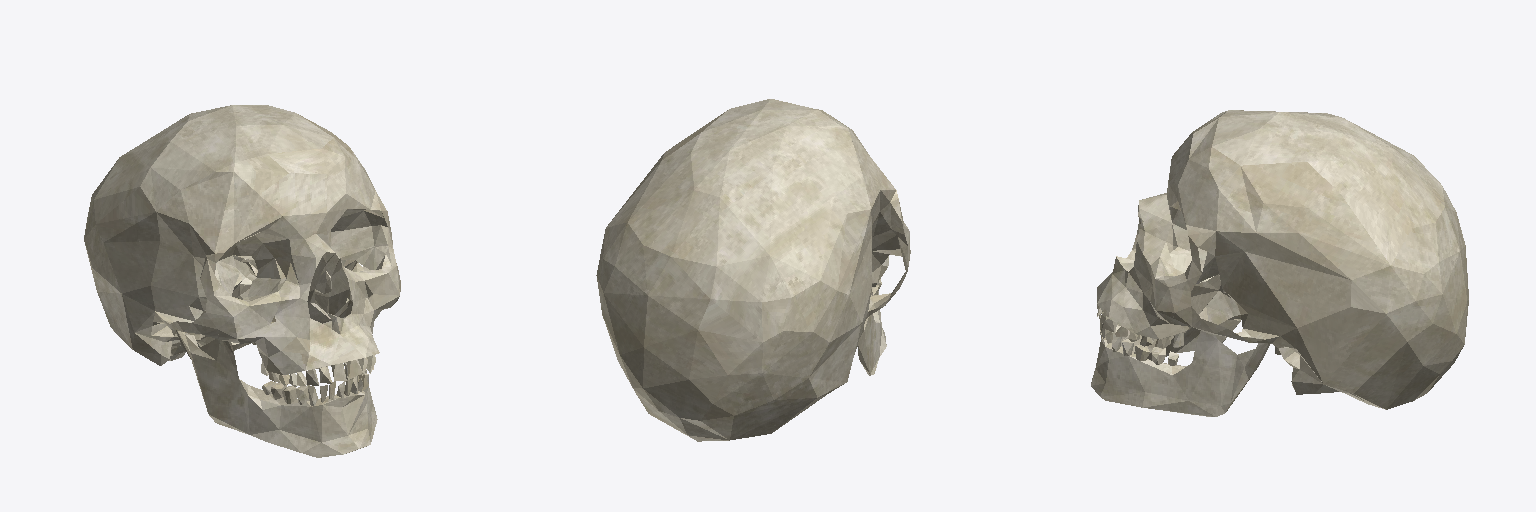
3 views of the same model, side by side, from view 1: azimuth 30°, elevation 25°; view 2: azimuth 150°, elevation 25°; view 3: azimuth 270°, elevation 25° (orthographic).
Visible parts, largest first — view 1: Skull; view 2: Skull; view 3: Skull.
Boxes of the visible parts, x1=… form: Skull: x1=84, y1=105, x2=400, y2=457; Skull: x1=596, y1=99, x2=910, y2=441; Skull: x1=1091, y1=110, x2=1468, y2=416.
Size of the model in its own units: 0.8229 by 0.9071 by 1.15.
Materials: 1 (1 with a texture image).